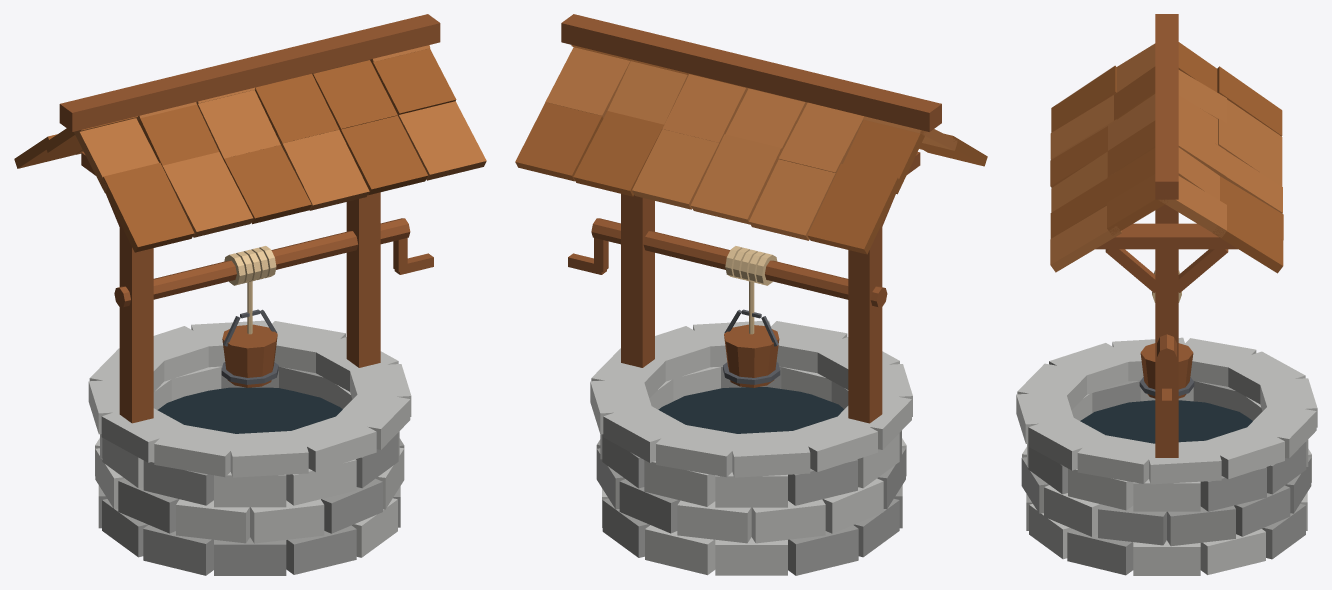
File: well.glb
The picture shows the model from 3 angles, left to right: view 1: azimuth 30°, elevation 25°; view 2: azimuth 150°, elevation 25°; view 3: azimuth 270°, elevation 25°; orthographic projection. The views are drawn at different scales.
Visible parts, largest first — view 1: well_stein_hell, well_holz, well_schindel_b, well_schindel_a, well_stein_dunkel, well_wasser, well_seil, well_eisen; view 2: well_stein_hell, well_schindel_a, well_holz, well_schindel_b, well_stein_dunkel, well_wasser, well_seil, well_eisen; view 3: well_stein_hell, well_schindel_a, well_stein_dunkel, well_schindel_b, well_holz, well_wasser.
Boxes of the visible parts, x1=… form: well_stein_hell: x1=88, y1=320, x2=411, y2=557; well_holz: x1=59, y1=14, x2=440, y2=423; well_schindel_b: x1=14, y1=48, x2=456, y2=252; well_schindel_a: x1=74, y1=45, x2=486, y2=237; well_stein_dunkel: x1=98, y1=367, x2=404, y2=575; well_wasser: x1=157, y1=387, x2=342, y2=433; well_seil: x1=224, y1=246, x2=276, y2=334; well_eisen: x1=221, y1=309, x2=278, y2=384; well_stein_hell: x1=590, y1=320, x2=912, y2=575; well_schindel_a: x1=545, y1=47, x2=957, y2=240; well_holz: x1=561, y1=14, x2=941, y2=423; well_schindel_b: x1=515, y1=45, x2=987, y2=254; well_stein_dunkel: x1=596, y1=366, x2=905, y2=575; well_wasser: x1=658, y1=387, x2=844, y2=433; well_seil: x1=725, y1=246, x2=777, y2=334; well_eisen: x1=723, y1=309, x2=780, y2=384; well_stein_hell: x1=1016, y1=337, x2=1317, y2=575; well_schindel_a: x1=1050, y1=43, x2=1282, y2=272; well_stein_dunkel: x1=1021, y1=381, x2=1311, y2=575; well_schindel_b: x1=1050, y1=42, x2=1283, y2=273; well_holz: x1=1095, y1=14, x2=1237, y2=457; well_wasser: x1=1080, y1=400, x2=1252, y2=443.
Bounding box in the file's own units: 2.4 × 2.8 × 1.82.
